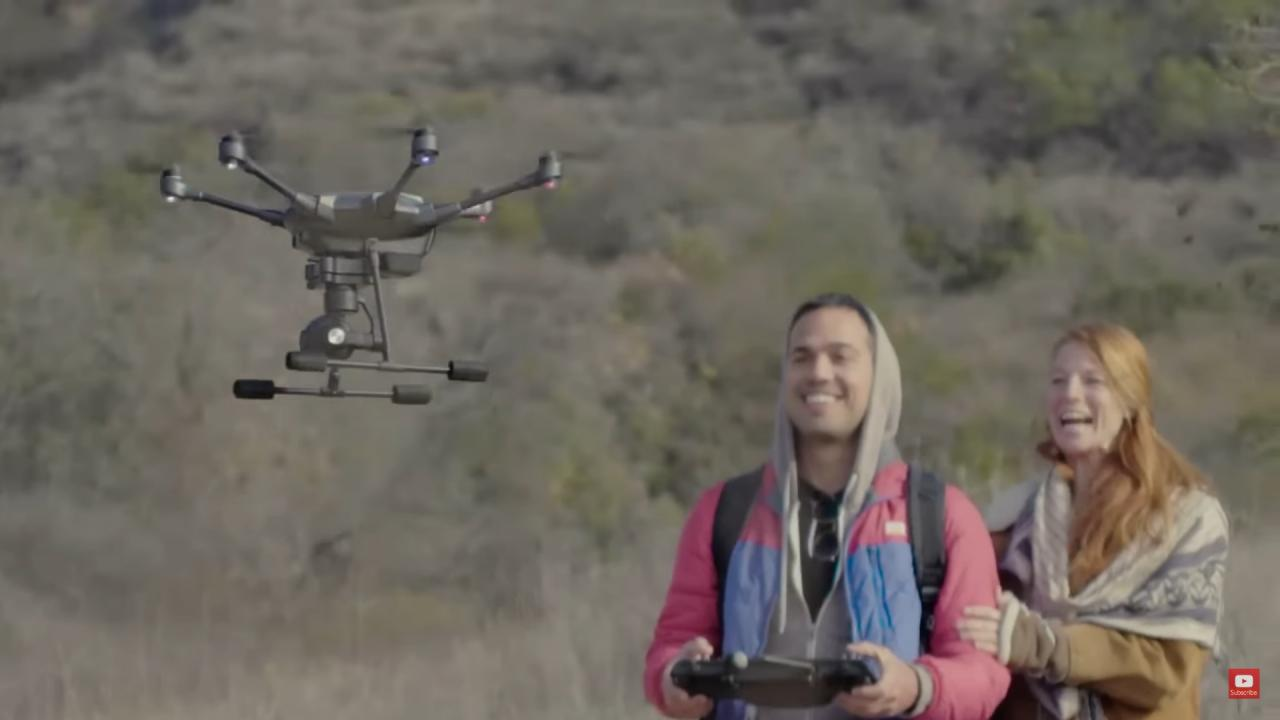Drone: (146, 112, 596, 419)
